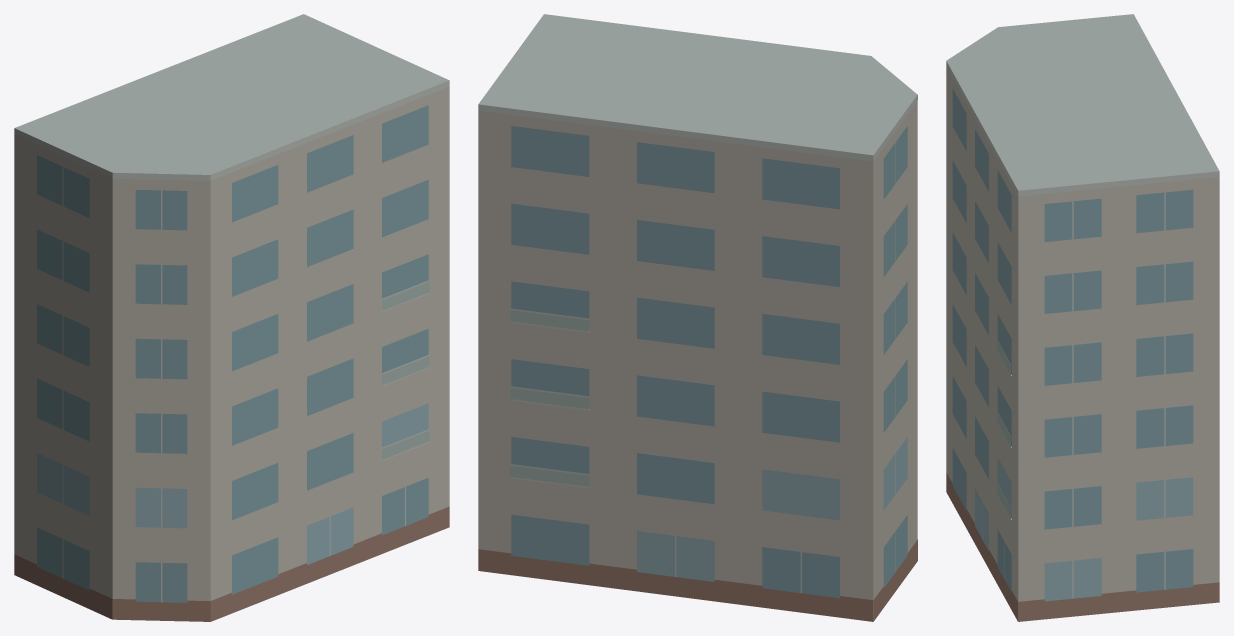
File: survey-upis-32527573.glb
3 renders of one model, left to right at view 1: azimuth 30°, elevation 25°; view 2: azimuth 150°, elevation 25°; view 3: azimuth 270°, elevation 25°, orthographic. The views are drawn at different scales.
Parts seen in each view (by area): view 1: survey-upis-32527573.tmp; view 2: survey-upis-32527573.tmp; view 3: survey-upis-32527573.tmp.
Boxes of the visible parts, left/top/right/bottom form: survey-upis-32527573.tmp: left=14, top=14, right=449, bottom=621; survey-upis-32527573.tmp: left=478, top=14, right=917, bottom=621; survey-upis-32527573.tmp: left=946, top=14, right=1219, bottom=621.
Size of the model in its own units: 16.1 by 18.3 by 10.52.
